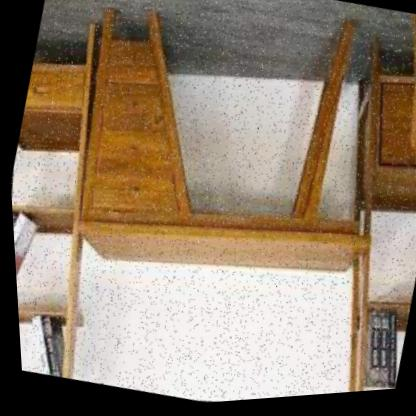Table: (16, 0, 416, 358)
